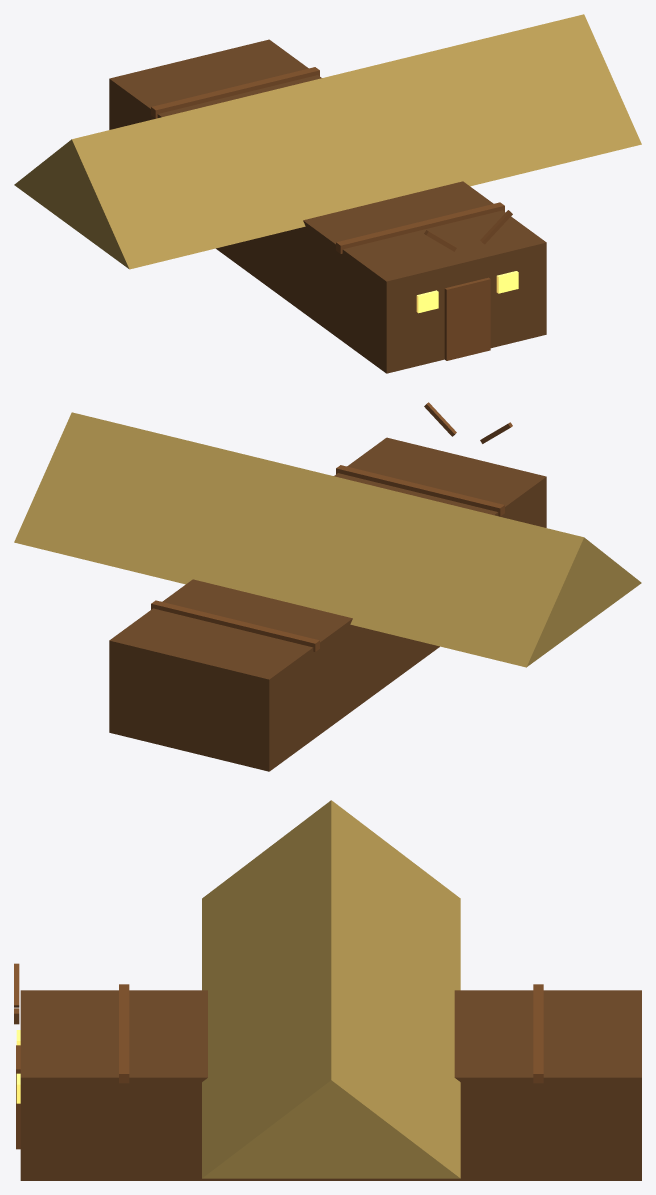
Rendered from longhouse.glb.
3 views of the same model, one above another, from view 1: azimuth 30°, elevation 25°; view 2: azimuth 150°, elevation 25°; view 3: azimuth 270°, elevation 25° (orthographic). The views are drawn at different scales.
Parts seen in each view (by area): view 1: longhouse; view 2: longhouse; view 3: longhouse.
Part boxes in pixels (x1,y1,x2,y2): longhouse: (14,14,641,373); longhouse: (14,402,641,771); longhouse: (14,800,641,1180).
Bounding box in the file's own units: 12.8 × 4.2 × 12.13.
